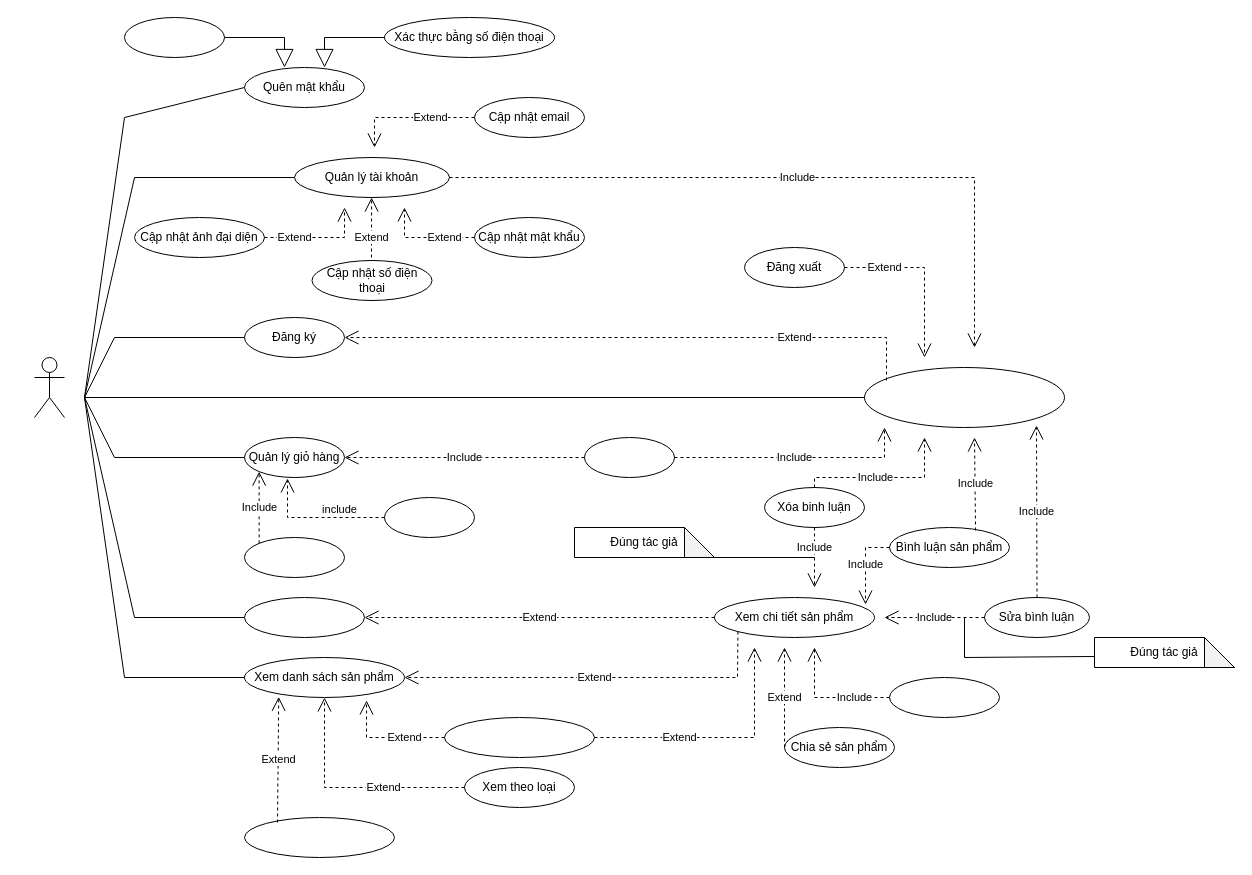
The diagram is 1252 pixels wide and 875 high, and some of its shapes have lost their labels. Here are the shapes that lost their labels. From the top down, the box of each, then its label:
(124, 16, 224, 58): Xác thực bằng email
(34, 356, 64, 418): Khách hàng
(864, 366, 1064, 428): Đăng nhập
(584, 436, 674, 478): Đặt hàng
(384, 496, 474, 538): Xóa
(244, 536, 344, 578): Cập nhật
(244, 596, 364, 638): Tìm kiếm sản phẩm
(888, 676, 1000, 718): Xem bình luận
(444, 716, 594, 758): Thêm sản phẩm giỏ hàng
(244, 816, 394, 858): Xem theo nhà sản xuất
